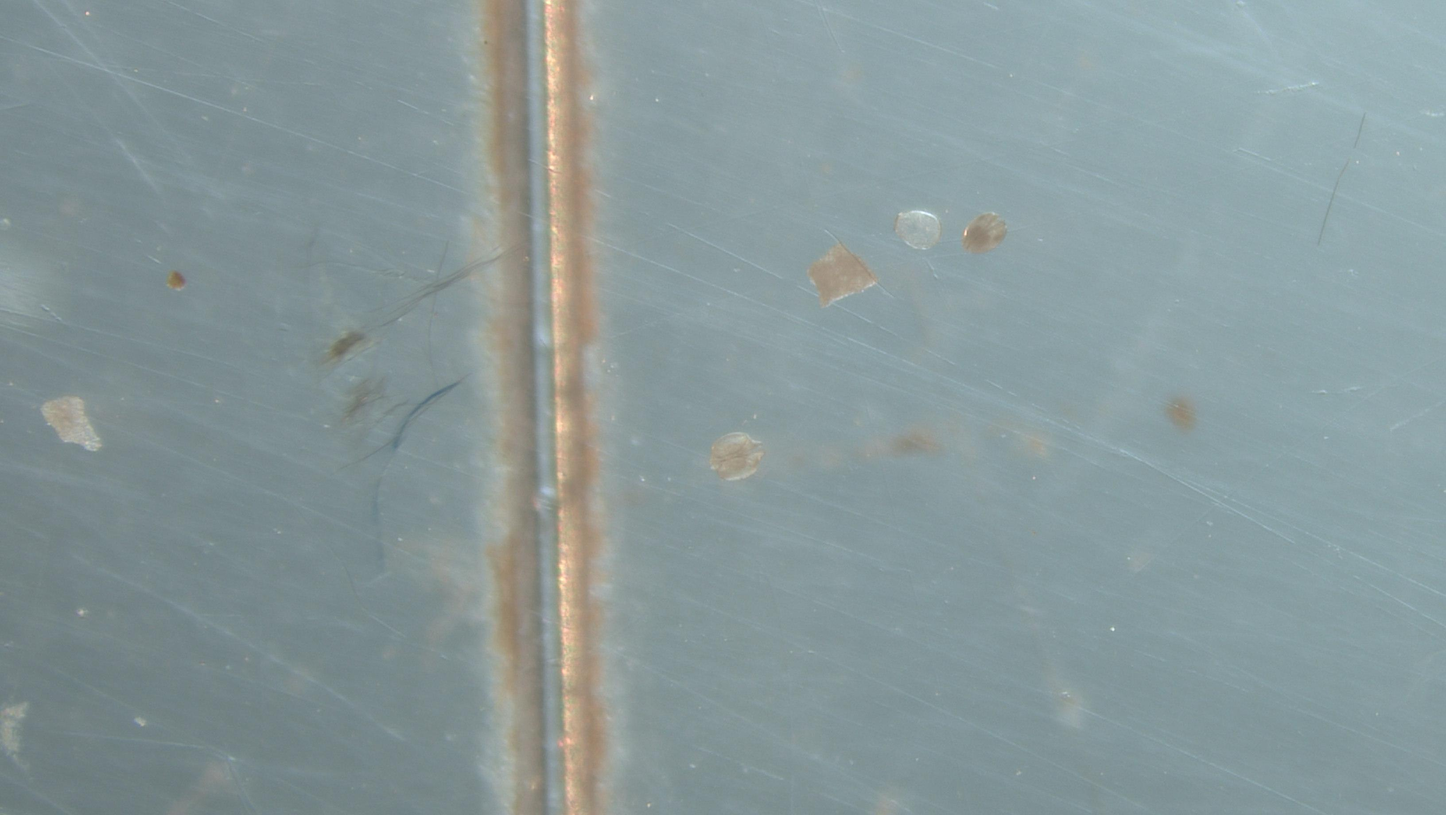dead: (895, 210, 941, 250)
live: (710, 432, 765, 481)
